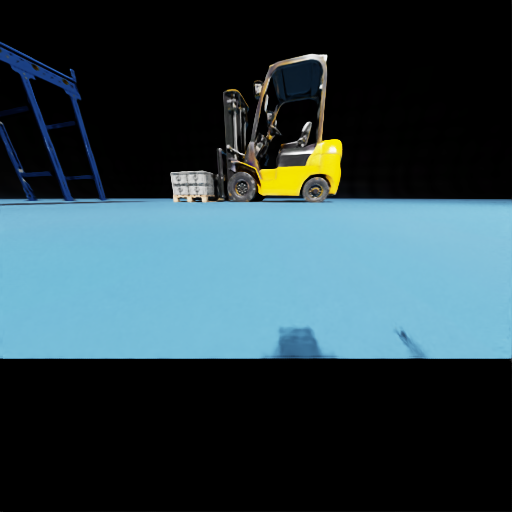transportation_area: (188, 183, 218, 194), (210, 172, 211, 174)
